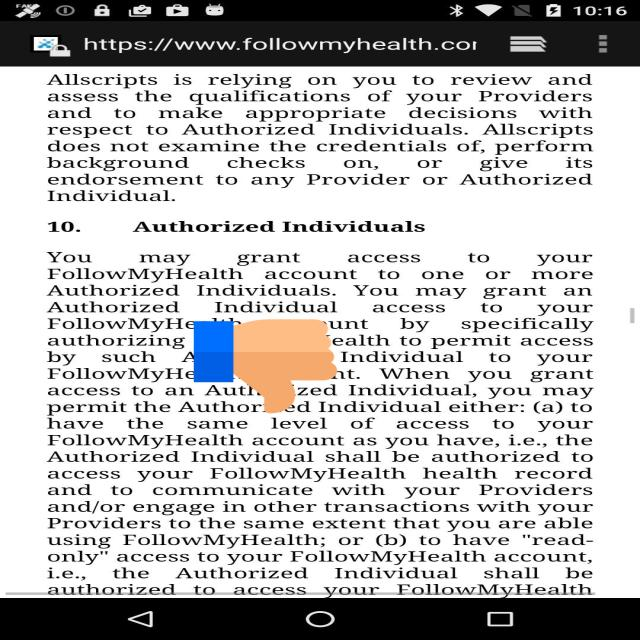obstruction: (194, 317, 337, 416)
